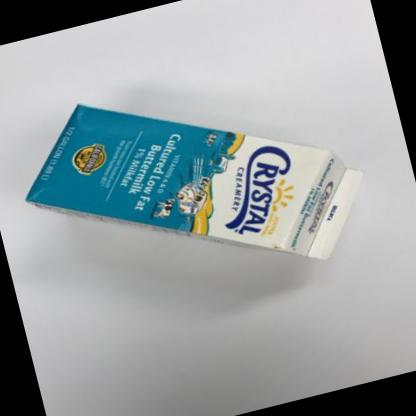Paper: (26, 105, 363, 260)
